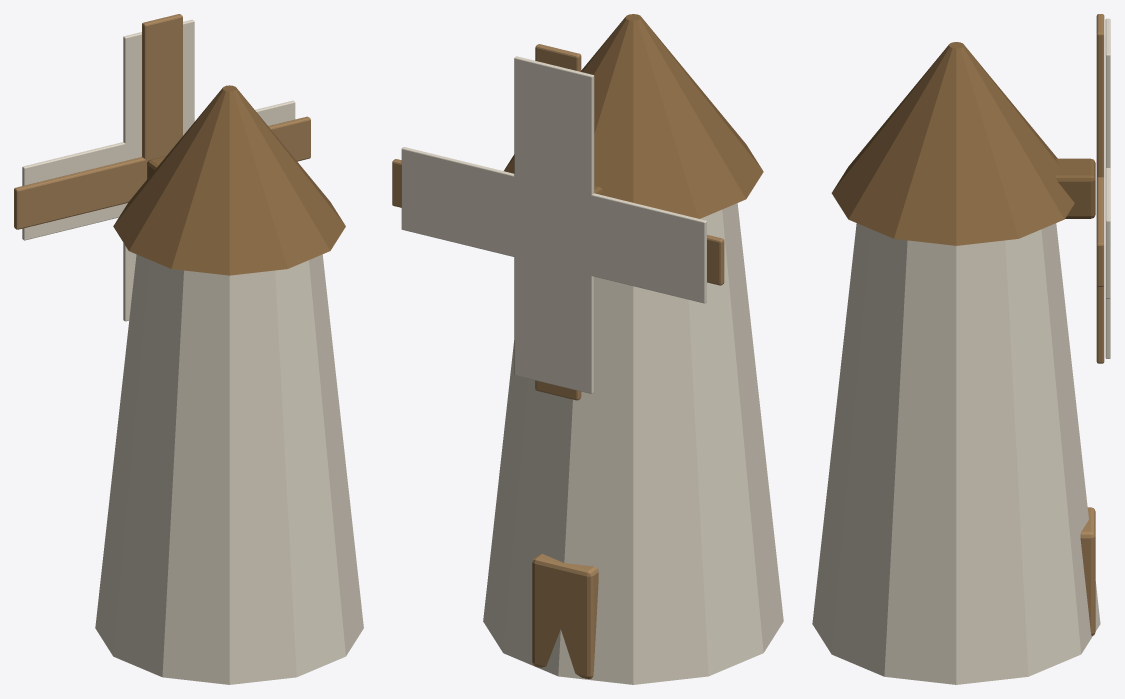
File: windmill.glb
3 views of the same model, side by side, from view 1: azimuth 30°, elevation 25°; view 2: azimuth 150°, elevation 25°; view 3: azimuth 270°, elevation 25° (orthographic). The views are drawn at different scales.
Parts seen in each view (by area): view 1: Cone, Cone.001, Cube.004, Cube.002, Cube.005, Cube.003; view 2: Cone, Cube.003, Cube.005, Cone.001, Cube.001, Cube.002, Cube.004; view 3: Cone, Cone.001, Cube.002, Cube, Cube.001, Cube.003, Cube.004, Cube.005.
Part boxes in pixels (box(x1,y1,x2,y2)): Cone: box(95, 254, 363, 684); Cone.001: box(113, 85, 345, 275); Cube.004: box(14, 116, 310, 229); Cube.002: box(142, 14, 182, 179); Cube.005: box(22, 100, 295, 240); Cube.003: box(123, 19, 194, 321); Cone: box(483, 203, 783, 684); Cube.003: box(514, 56, 594, 393); Cube.005: box(401, 147, 706, 303); Cone.001: box(504, 14, 763, 218); Cube.001: box(532, 554, 598, 678); Cube.002: box(535, 44, 581, 400); Cube.004: box(392, 159, 724, 285); Cone: box(812, 223, 1100, 684); Cone.001: box(831, 42, 1074, 245); Cube.002: box(1096, 14, 1104, 363); Cube: box(1055, 158, 1095, 218); Cube.001: box(1080, 507, 1095, 635); Cube.003: box(1105, 18, 1110, 358); Cube.004: box(1096, 177, 1104, 286); Cube.005: box(1105, 168, 1110, 298).
Size of the model in its own units: 3.8 by 6.9 by 3.11.
